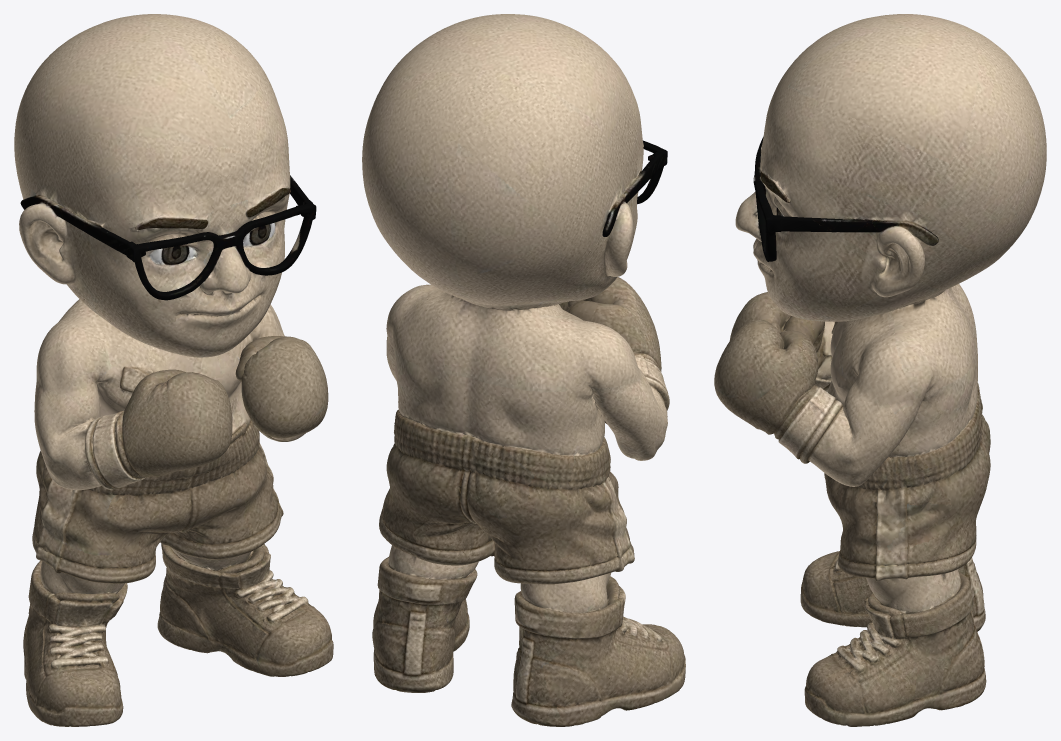
File: boss-east.glb
3 views of the same model, side by side, from view 1: azimuth 30°, elevation 25°; view 2: azimuth 150°, elevation 25°; view 3: azimuth 270°, elevation 25° (orthographic). The views are drawn at different scales.
Size of the model in its own units: 0.8982 by 1.9 by 0.9086.
Materials: 1 (1 with a texture image).
